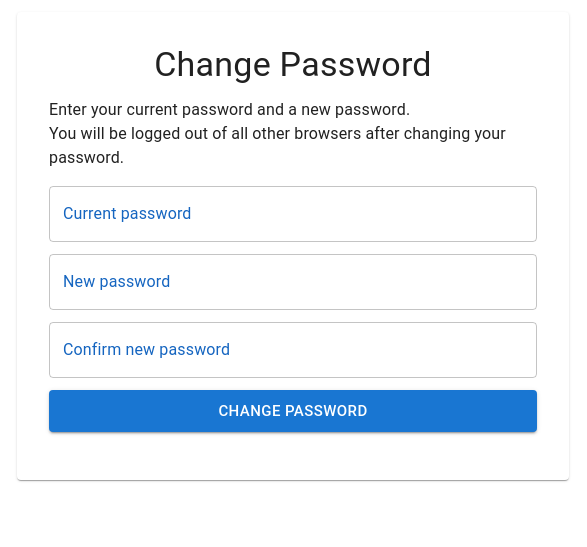
Scenario: displays error from server
# Enter the current password
Type "correctCurrentPassword" into the password field labelled "Current password" at (293, 214), box [49,186,537,242]
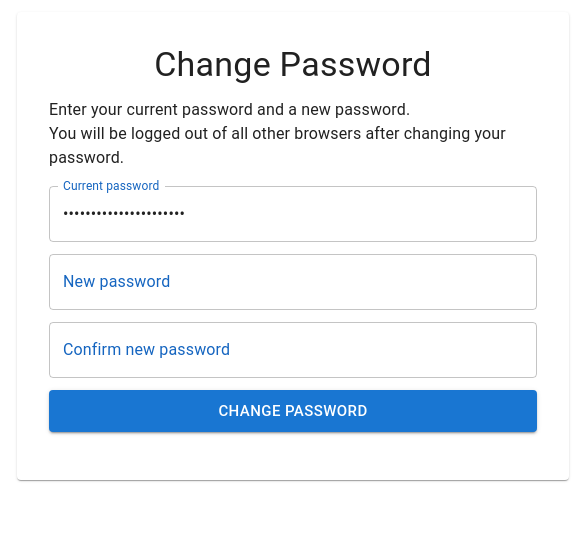
# Enter an invalid new password
Type "invalid" into the password field labelled "New password" at (293, 282), box [49,254,537,310]
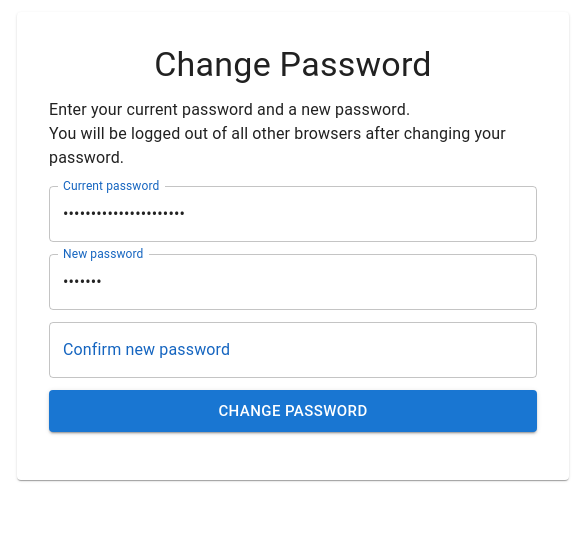
Type "invalid" into the password field labelled "Confirm new password" at (293, 350), box [49,322,537,378]
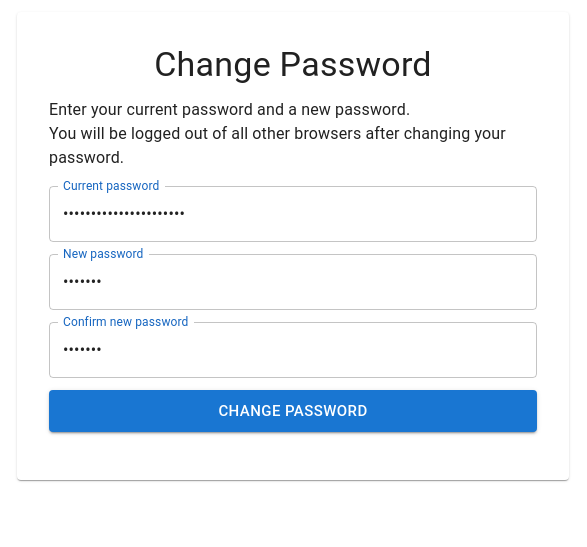
# Submit the form
Click the button "Change Password" at (293, 411), box [49,390,537,432]
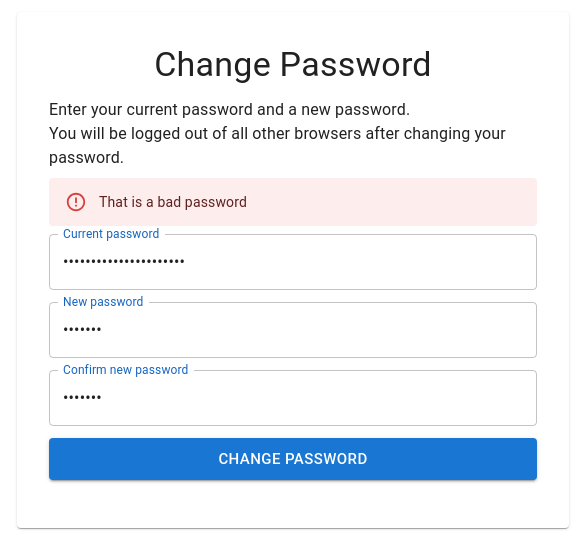
Now the text "That is a bad password" is shown, box [99,194,247,210]
